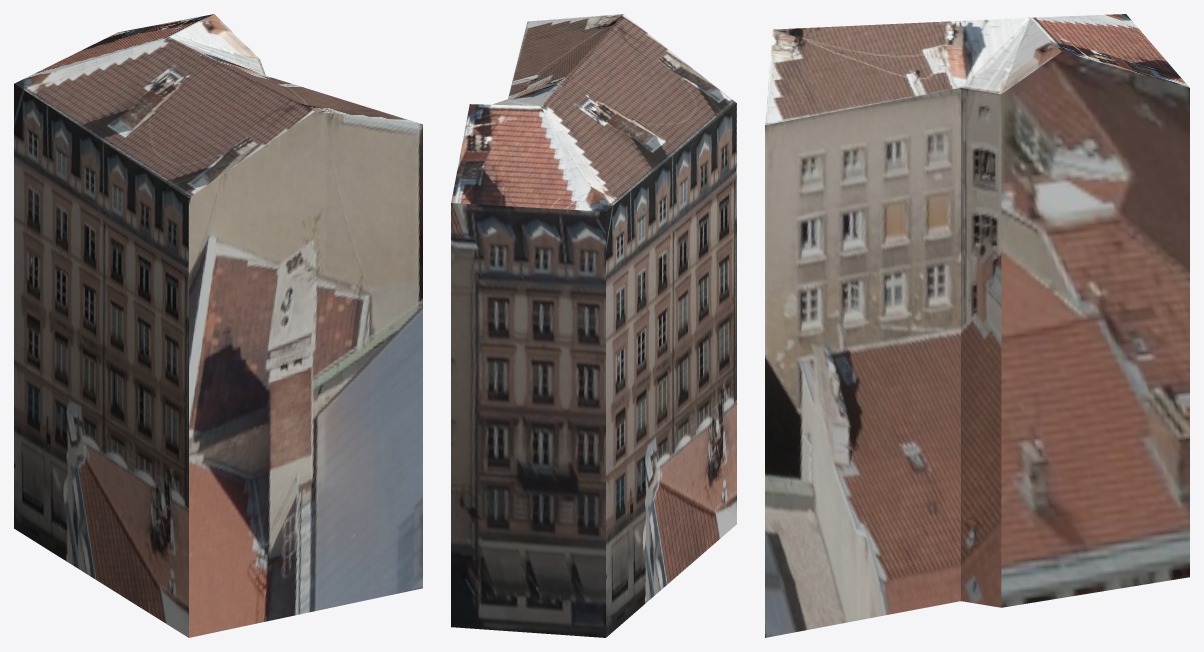
3 renders of one model, left to right at view 1: azimuth 30°, elevation 25°; view 2: azimuth 150°, elevation 25°; view 3: azimuth 270°, elevation 25°, orthographic. The views are drawn at different scales.
Visible parts, largest first — view 1: Z_UP; view 2: Z_UP; view 3: Z_UP.
Part boxes in pixels (x1,y1,x2,y2): Z_UP: (14, 14, 422, 637); Z_UP: (451, 14, 736, 637); Z_UP: (765, 14, 1189, 637).
Size of the model in its own units: 14.08 by 27.41 by 19.1.
2 materials, 1 textured.
